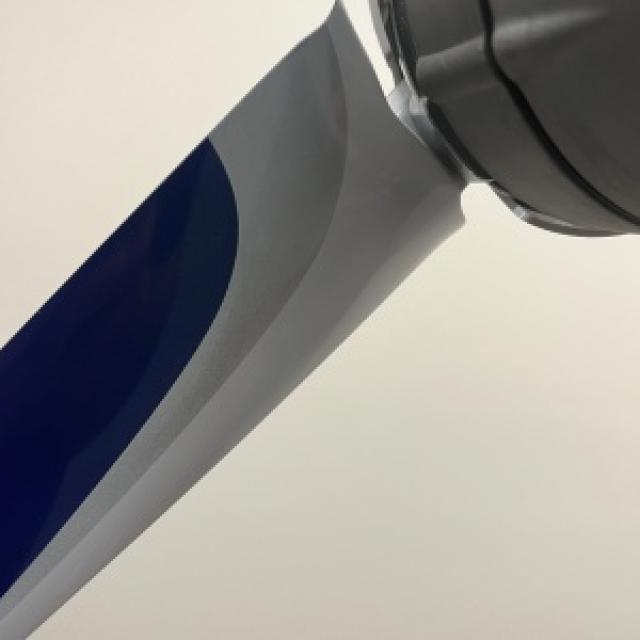healthy: (30, 183, 638, 638)
